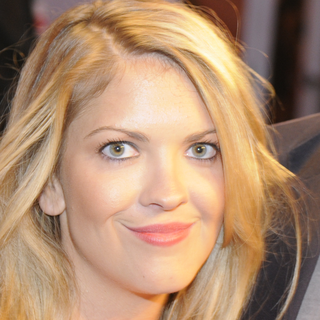eye: (94, 134, 147, 166), (180, 136, 224, 167)
